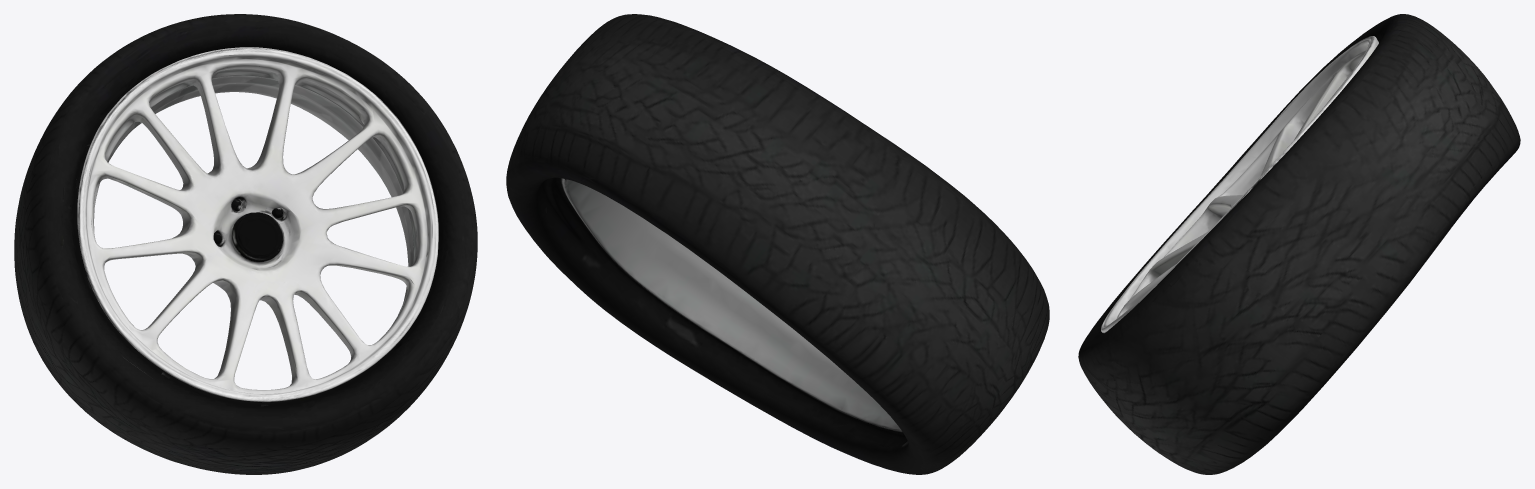
Rendered from wheel.glb.
The picture shows the model from 3 angles, left to right: view 1: azimuth 30°, elevation 25°; view 2: azimuth 150°, elevation 25°; view 3: azimuth 270°, elevation 25°; orthographic projection. The views are drawn at different scales.
Visible parts, largest first — view 1: node_0; view 2: node_0; view 3: node_0.
Part boxes in pixels (x1,y1,x2,y2): node_0: (14,14,477,474); node_0: (506,14,1049,474); node_0: (1078,14,1520,474).
Bounding box in the file's own units: 1.19 × 1.09 × 1.03.
1 material, 1 textured.
